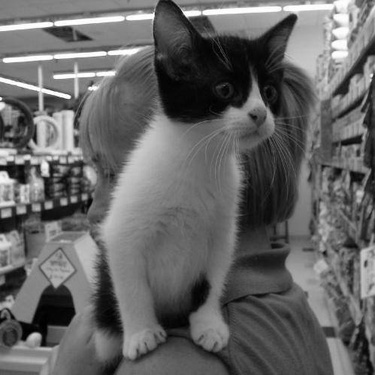cat: (93, 1, 296, 360)
